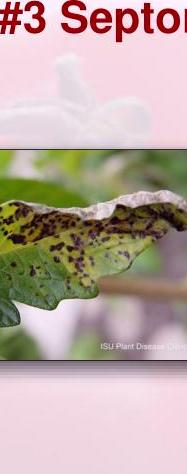Tomato Septoria leaf spot: (0, 185, 187, 339)
